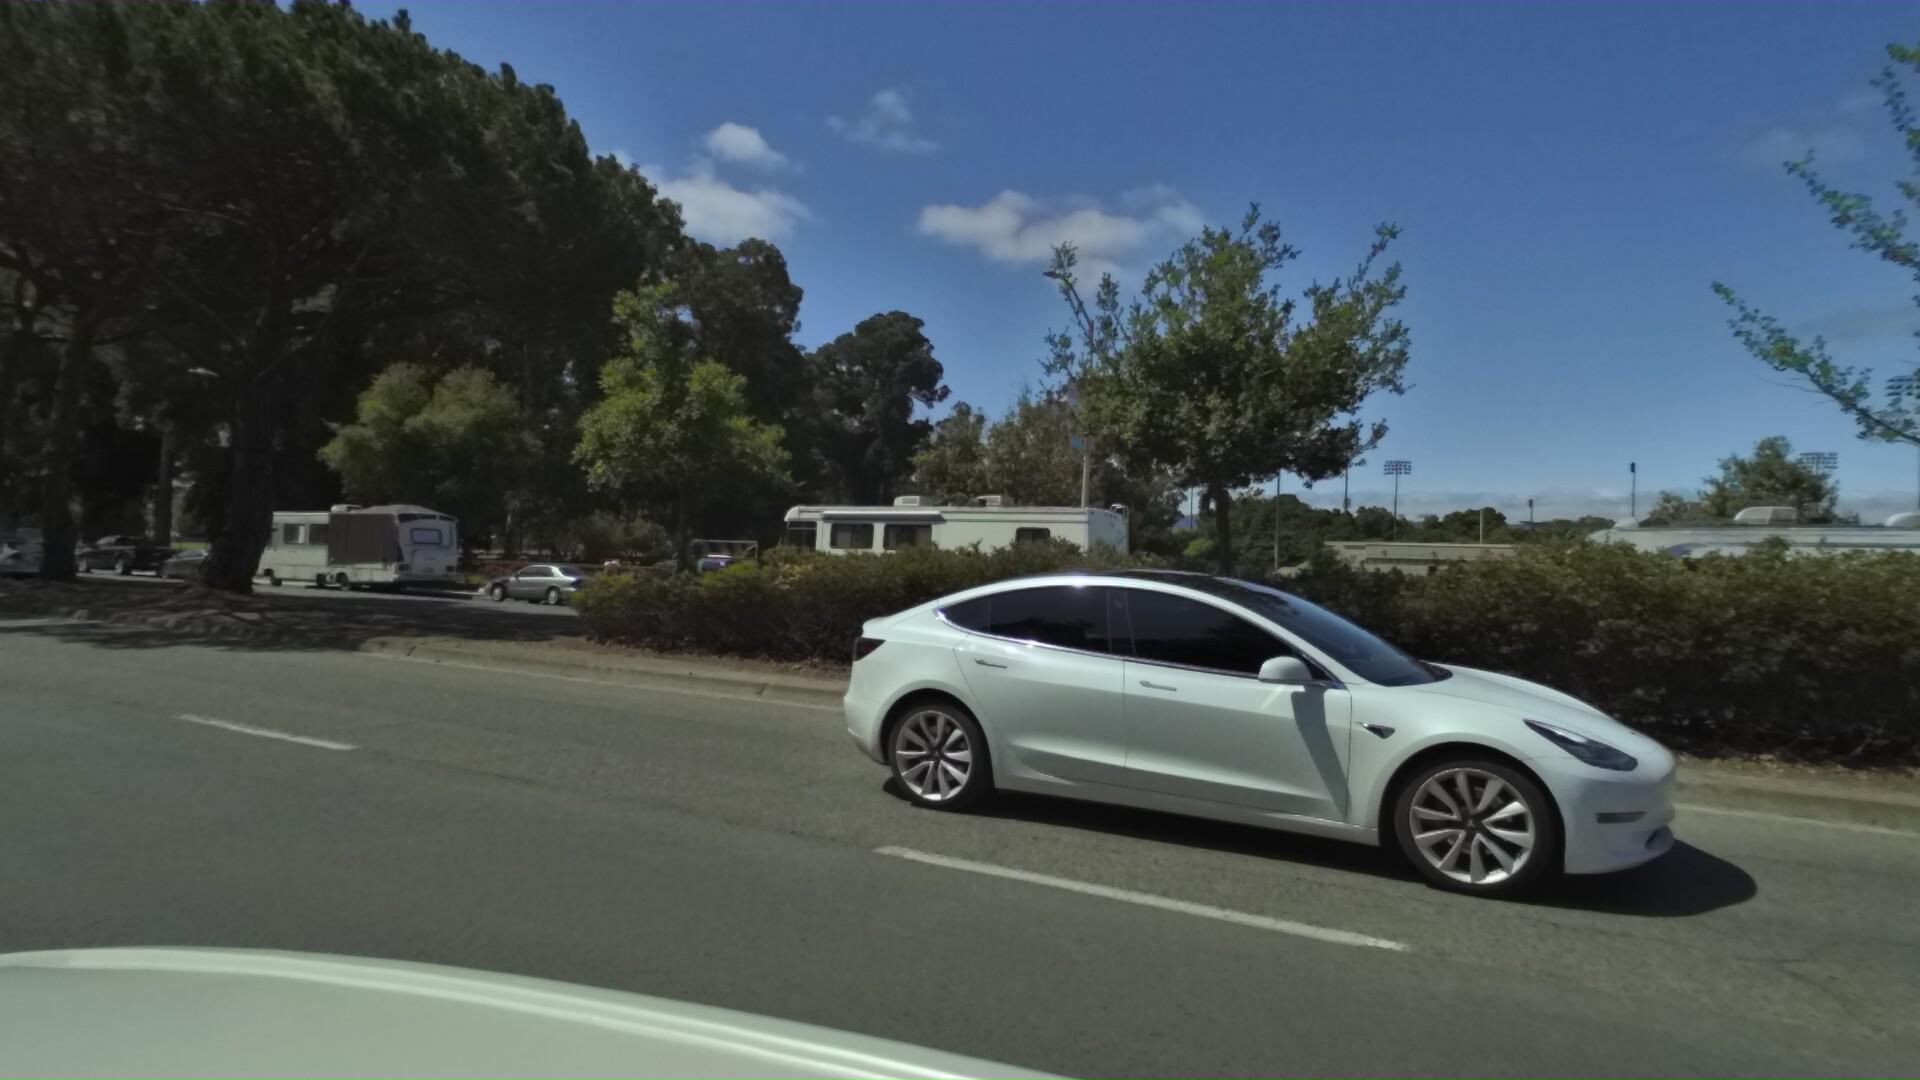car: (820, 530, 1789, 953), (589, 542, 754, 621), (464, 558, 608, 608), (67, 533, 181, 578), (145, 543, 252, 587), (0, 534, 76, 583)
other_vehicle: (1476, 476, 1920, 725), (735, 487, 1117, 644), (241, 500, 459, 597)
